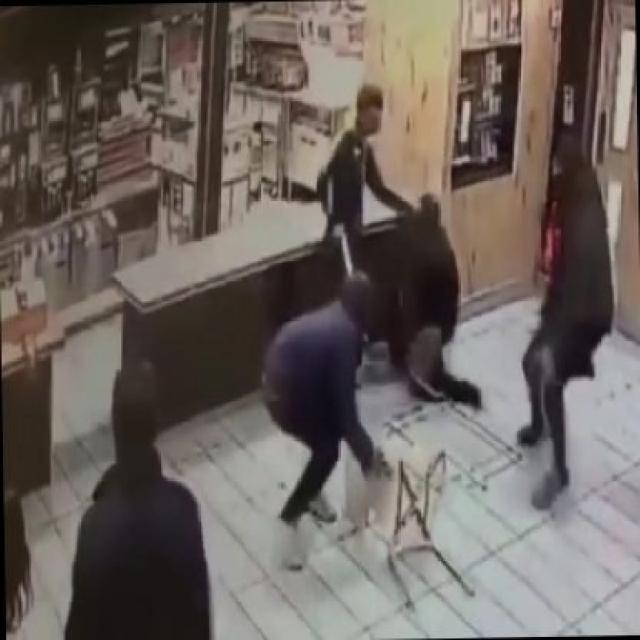fight: (224, 36, 638, 556)
non-fight: (12, 336, 268, 638)
